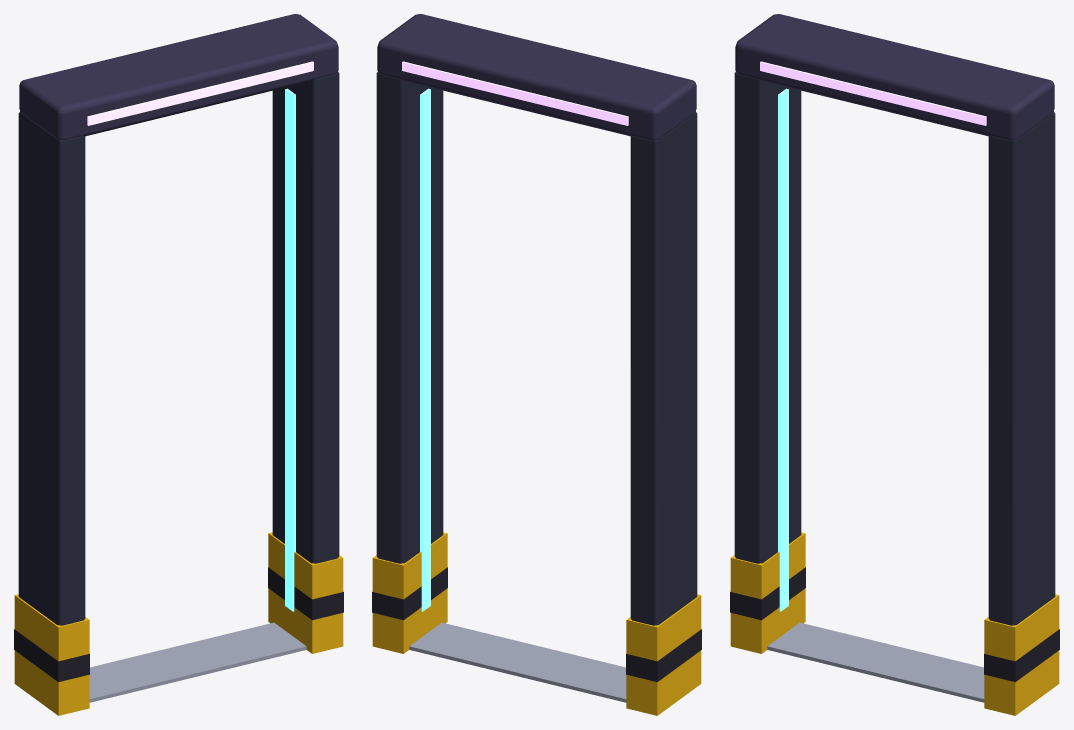
Rendered from wand_halb_tuer.glb.
3 renders of one model, left to right at view 1: azimuth 30°, elevation 25°; view 2: azimuth 150°, elevation 25°; view 3: azimuth 330°, elevation 25°, orthographic.
Parts seen in each view (by area): view 1: wand_halb_tuer; view 2: wand_halb_tuer; view 3: wand_halb_tuer.
Part boxes in pixels (bbox=[...]): wand_halb_tuer: bbox=[14, 14, 343, 715]; wand_halb_tuer: bbox=[372, 14, 701, 715]; wand_halb_tuer: bbox=[730, 14, 1059, 715].
Bounding box in the file's own units: 1.01 × 2.05 × 0.272.
